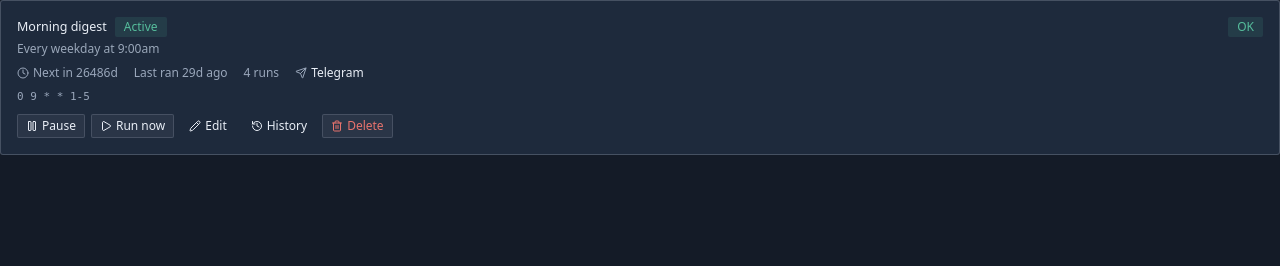
JobCard run history disclosure › shows lastError note above the run list when the job has a recent error
Click the button with aria-label "Toggle run history".
click(279, 126)  # box [242,114,316,138]
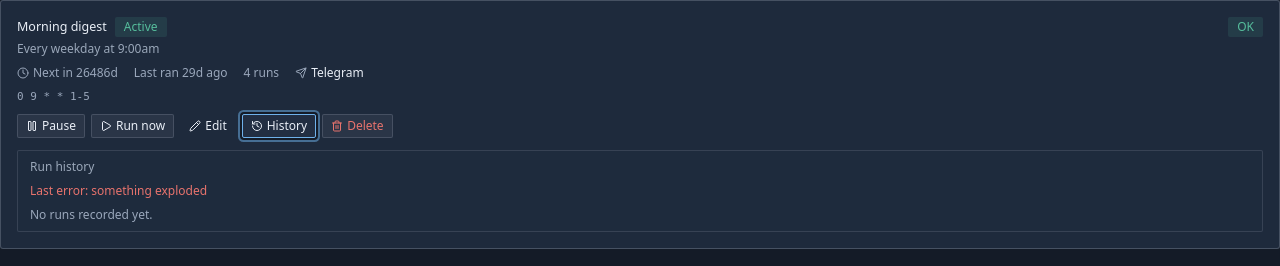
Check: the text "Last error: something exploded" is shown, box [30,182,207,198]
